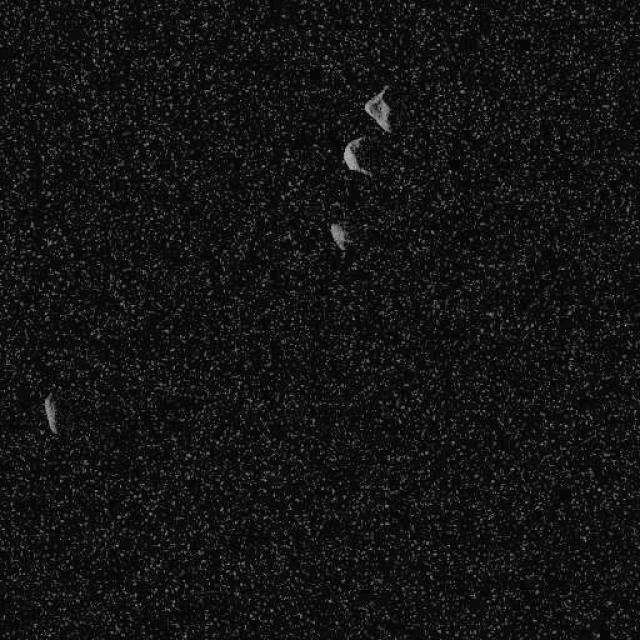D2: (341, 134, 380, 178), (362, 84, 393, 134), (42, 393, 58, 435), (328, 219, 348, 251)
